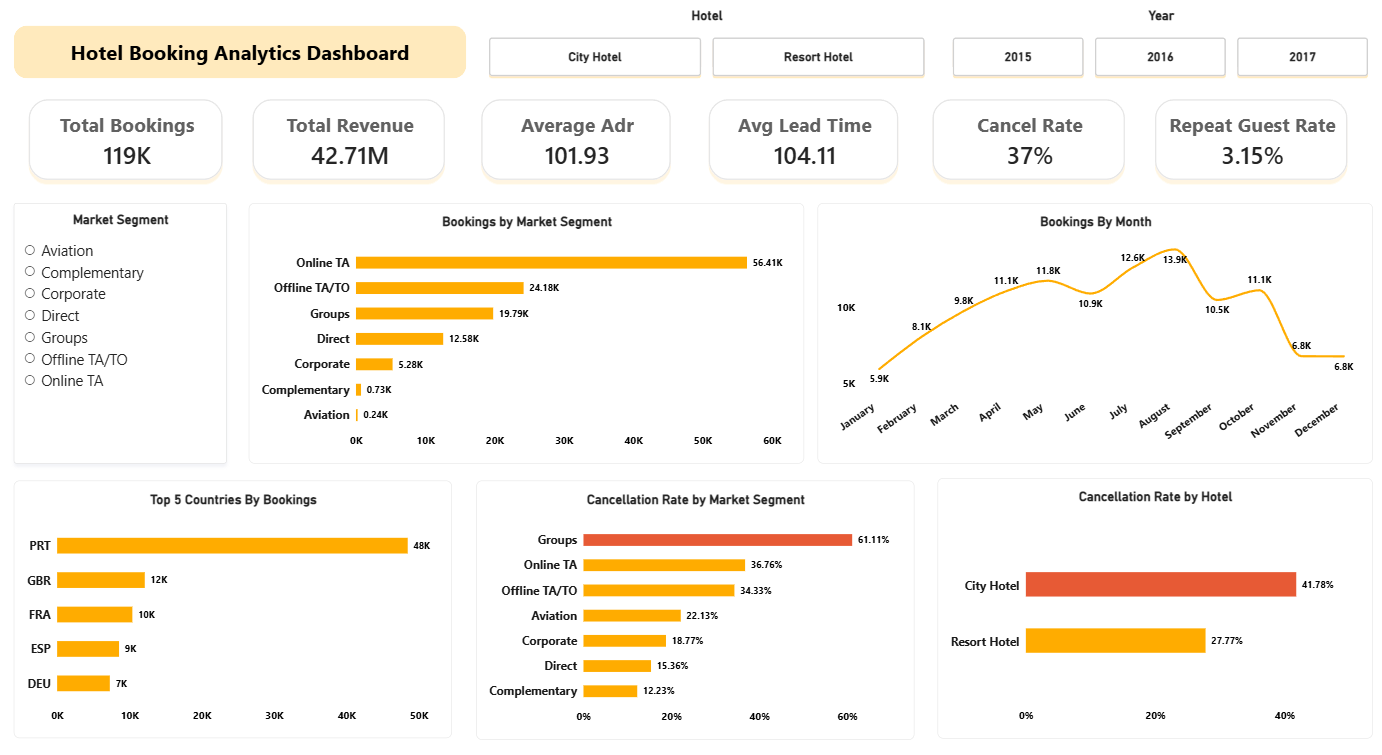

The page's visual inventory and layout, read from the dashboard file:
{"tool":"powerbi","page":{"name":"Page 1","canvas":[1920,1080],"ordinal":0},"visuals":[{"type":"cardVisual","fields":{"Data":["hotel_bookings_cleaned.Total Bookings"]},"box":[39.2,139.2,281.7,125.2],"z":0},{"type":"cardVisual","fields":{"Data":["hotel_bookings_cleaned.Cancel Rate"]},"box":[1285.2,139.2,279.7,125.2],"z":1000},{"type":"cardVisual","fields":{"Data":["hotel_bookings_cleaned.Average Adr"]},"box":[663.2,139.2,275.5,125.2],"z":2000},{"type":"cardVisual","fields":{"Data":["hotel_bookings_cleaned.Total Revenue"]},"box":[348.1,139.2,279.7,125.2],"z":3000},{"type":"cardVisual","fields":{"Data":["hotel_bookings_cleaned.Average Lead Time"]},"box":[976.3,139.2,275.5,125.2],"z":4000},{"type":"cardVisual","fields":{"Data":["hotel_bookings_cleaned.Repeat Guest Rate"]},"box":[1591.9,139.2,279.7,125.2],"z":5000},{"type":"clusteredBarChart","title":"Bookings by Market Segment","fields":{"Category":["hotel_bookings_cleaned.market_segment"],"Y":["CountNonNull(hotel_bookings_cleaned.hotel)"]},"box":[348.9,289.4,766,359.6],"z":6000},{"type":"lineChart","title":"Bookings By Month","fields":{"Category":["hotel_bookings_cleaned.arrival_date_month"],"Y":["CountNonNull(hotel_bookings_cleaned.hotel)"]},"box":[1134,289.4,766,359.6],"z":7000},{"type":"barChart","title":"Top 5 Countries By Bookings","fields":{"Category":["hotel_bookings_cleaned.country"],"Y":["CountNonNull(hotel_bookings_cleaned.hotel)"]},"box":[25.5,672.3,604.3,355.3],"z":8000},{"type":"advancedSlicerVisual","title":"Hotel","fields":{"Values":["hotel_bookings_cleaned.hotel"]},"box":[676.6,21.3,608.5,97.9],"z":9000},{"type":"advancedSlicerVisual","title":"Year","fields":{"Values":["hotel_bookings_cleaned.arrival_date_year"]},"box":[1317,21.3,583,97.9],"z":10000},{"type":"listSlicer","title":"Market Segment","fields":{"Values":["hotel_bookings_cleaned.market_segment"]},"box":[25.5,289.4,293.6,359.6],"z":11000},{"type":"shape","box":[25,45,624,73],"z":12000},{"type":"barChart","title":"Cancellation Rate by Market Segment","fields":{"Category":["hotel_bookings_cleaned.market_segment"],"Y":["hotel_bookings_cleaned.Cancel Rate"]},"box":[662.8,672.3,604.3,357.4],"z":13000},{"type":"barChart","title":"Cancellation Rate by  Hotel","fields":{"Category":["hotel_bookings_cleaned.hotel"],"Y":["hotel_bookings_cleaned.Cancel Rate"]},"box":[1300,668.1,600,359.6],"z":14000}]}

Visuals, with their boxes in screenshot pixels (x1, y1, x2, y2), scaled from the page's 1920x1080 canvas onto the 1382x755 screenshot:
cardVisual - hotel_bookings_cleaned.Total Bookings: select_region(28, 97, 231, 185)
cardVisual - hotel_bookings_cleaned.Cancel Rate: select_region(925, 97, 1126, 185)
cardVisual - hotel_bookings_cleaned.Average Adr: select_region(477, 97, 676, 185)
cardVisual - hotel_bookings_cleaned.Total Revenue: select_region(251, 97, 452, 185)
cardVisual - hotel_bookings_cleaned.Average Lead Time: select_region(703, 97, 901, 185)
cardVisual - hotel_bookings_cleaned.Repeat Guest Rate: select_region(1146, 97, 1347, 185)
"Bookings by Market Segment" clusteredBarChart: select_region(251, 202, 802, 454)
"Bookings By Month" lineChart: select_region(816, 202, 1368, 454)
"Top 5 Countries By Bookings" barChart: select_region(18, 470, 453, 718)
"Hotel" advancedSlicerVisual: select_region(487, 15, 925, 83)
"Year" advancedSlicerVisual: select_region(948, 15, 1368, 83)
"Market Segment" listSlicer: select_region(18, 202, 230, 454)
shape: select_region(18, 31, 467, 82)
"Cancellation Rate by Market Segment" barChart: select_region(477, 470, 912, 720)
"Cancellation Rate by  Hotel" barChart: select_region(936, 467, 1368, 718)
